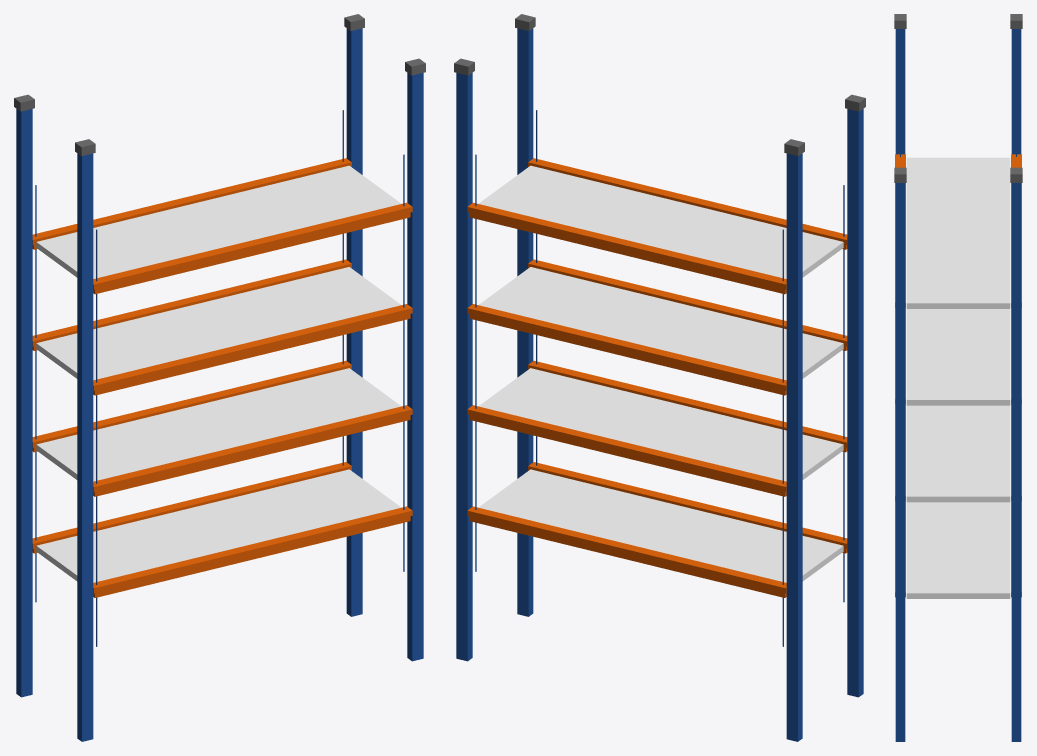
Rendered from shelf-light-v2.glb.
The picture shows the model from 3 angles, left to right: view 1: azimuth 30°, elevation 25°; view 2: azimuth 150°, elevation 25°; view 3: azimuth 270°, elevation 25°; orthographic projection. The views are drawn at different scales.
Visible parts, largest first — view 1: part_12, part_22, part_27, part_17, part_5, part_1, part_7, part_3, part_11, part_21, part_26, part_16 (+11 smaller); view 2: part_12, part_22, part_27, part_17, part_1, part_5, part_3, part_7, part_9, part_19, part_24, part_14 (+11 smaller); view 3: part_12, part_22, part_17, part_27, part_3, part_7, part_1, part_5, part_9, part_11.
Part boxes in pixels (x1,y1,x2,y2): part_12: (36, 165, 401, 278); part_22: (36, 368, 401, 481); part_27: (36, 469, 401, 582); part_17: (36, 267, 401, 380); part_5: (77, 153, 93, 741); part_1: (16, 109, 32, 697); part_7: (407, 73, 423, 661); part_3: (346, 28, 362, 616); part_11: (93, 202, 412, 289); part_21: (93, 405, 412, 492); part_26: (93, 506, 412, 593); part_16: (93, 304, 412, 390); part_12: (478, 165, 843, 278); part_22: (478, 368, 843, 481); part_27: (478, 469, 843, 582); part_17: (478, 267, 843, 380); part_1: (786, 153, 802, 741); part_5: (847, 109, 863, 697); part_3: (456, 73, 472, 661); part_7: (517, 28, 533, 616); part_9: (467, 202, 786, 289); part_19: (467, 405, 786, 492); part_24: (467, 506, 786, 593); part_14: (467, 304, 786, 390); part_12: (906, 157, 1010, 308); part_22: (906, 405, 1010, 502); part_17: (906, 309, 1010, 405); part_27: (906, 502, 1010, 598); part_3: (1011, 183, 1021, 741); part_7: (895, 183, 905, 741); part_1: (1011, 29, 1021, 154); part_5: (895, 29, 905, 154); part_9: (1011, 154, 1021, 307); part_11: (895, 154, 905, 307).
Size of the model in its own units: 1210 by 2000 by 410.
